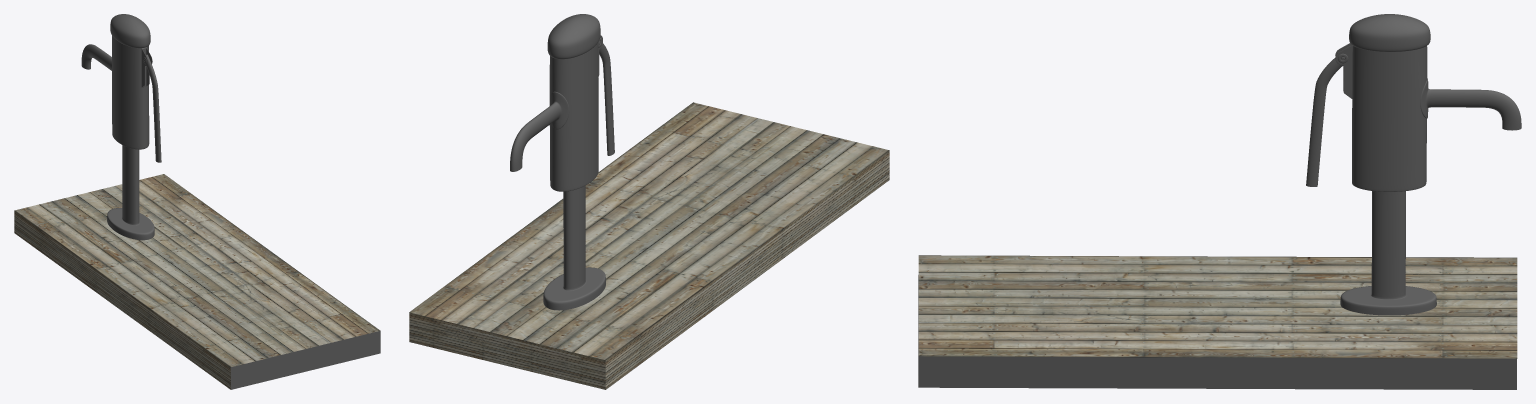
The model's file is pump.glb.
3 views of the same model, side by side, from view 1: azimuth 30°, elevation 25°; view 2: azimuth 150°, elevation 25°; view 3: azimuth 270°, elevation 25° (orthographic). The views are drawn at different scales.
Visible parts, largest first — view 1: pump.002; view 2: pump.002; view 3: pump.002.
Boxes of the visible parts, left/top/right/bottom form: pump.002: left=14, top=14, right=380, bottom=389; pump.002: left=409, top=14, right=889, bottom=389; pump.002: left=918, top=14, right=1521, bottom=389.
Bounding box in the file's own units: 5.34 × 7.9 × 13.47.
2 materials, 1 textured.
